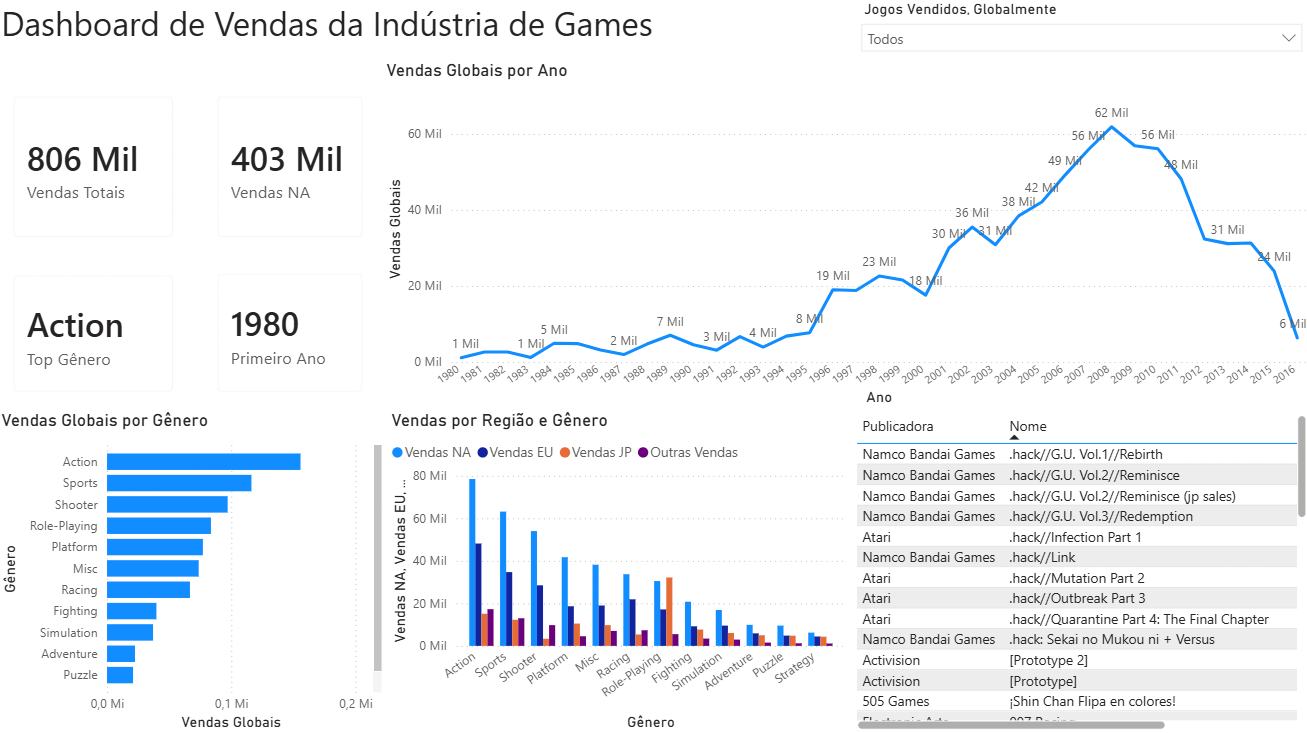

The dashboard page shown, as its layout file describes it:
{"tool":"powerbi","page":{"name":"Página 1","canvas":[1280,720],"ordinal":0},"visuals":[{"type":"clusteredBarChart","fields":{"Category":["vgsales.Genre"],"Y":["Sum(vgsales.Global_Sales)"]},"box":[0,403.7,379.7,316.8],"z":0},{"type":"clusteredColumnChart","title":"Vendas por Região e Gênero","fields":{"Y":["Sum(vgsales.NA_Sales)","Sum(vgsales.EU_Sales)","Sum(vgsales.JP_Sales)","Sum(vgsales.Other_Sales)"],"Category":["vgsales.Genre"]},"box":[379.7,403.7,451.6,316.8],"z":1000},{"type":"lineChart","fields":{"Y":["Sum(vgsales.Global_Sales)"],"Category":["vgsales.Year"]},"box":[374.7,63,905.3,340.7],"z":2000},{"type":"slicer","fields":{"Values":["vgsales.Name","vgsales.Global_Sales"]},"box":[831.4,0,448.6,63],"z":3000},{"type":"cardVisual","fields":{"Data":["Sum(vgsales.Global_Sales)"]},"box":[0,81.9,189.9,171.9],"z":4000},{"type":"cardVisual","fields":{"Data":["Sum(vgsales.NA_Sales)"]},"box":[198.8,81.9,175.9,171.9],"z":5000},{"type":"cardVisual","fields":{"Data":["Min(vgsales.Genre)"]},"box":[0,255.8,189.9,147.9],"z":6000},{"type":"cardVisual","fields":{"Data":["Min(vgsales.Year)"]},"box":[198.8,253.8,175.9,149.9],"z":7000},{"type":"tableEx","fields":{"Values":["vgsales.Publisher","vgsales.Name","vgsales.Year"]},"box":[832,404,448,316],"z":8000},{"type":"textbox","box":[0,0,832.3,63],"z":9000}]}

Visuals, with their boxes in screenshot pixels (x1, y1, x2, y2), scaled from the page's 1280x720 canvas onto the 1307x733 screenshot:
clusteredBarChart - vgsales.Genre x Sum(vgsales.Global_Sales): (0, 411, 388, 732)
"Vendas por Região e Gênero" clusteredColumnChart: (388, 411, 849, 732)
lineChart - Sum(vgsales.Global_Sales) x vgsales.Year: (383, 64, 1306, 411)
slicer - vgsales.Name x vgsales.Global_Sales: (849, 0, 1306, 64)
cardVisual - Sum(vgsales.Global_Sales): (0, 83, 194, 258)
cardVisual - Sum(vgsales.NA_Sales): (203, 83, 383, 258)
cardVisual - Min(vgsales.Genre): (0, 260, 194, 411)
cardVisual - Min(vgsales.Year): (203, 258, 383, 411)
tableEx - vgsales.Publisher x vgsales.Name: (850, 411, 1306, 732)
textbox: (0, 0, 850, 64)
